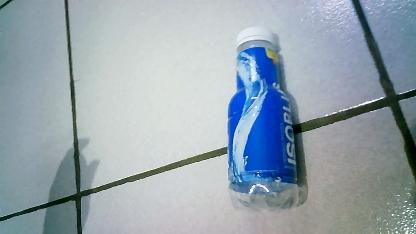Plastic Bottle: (210, 23, 308, 213)
